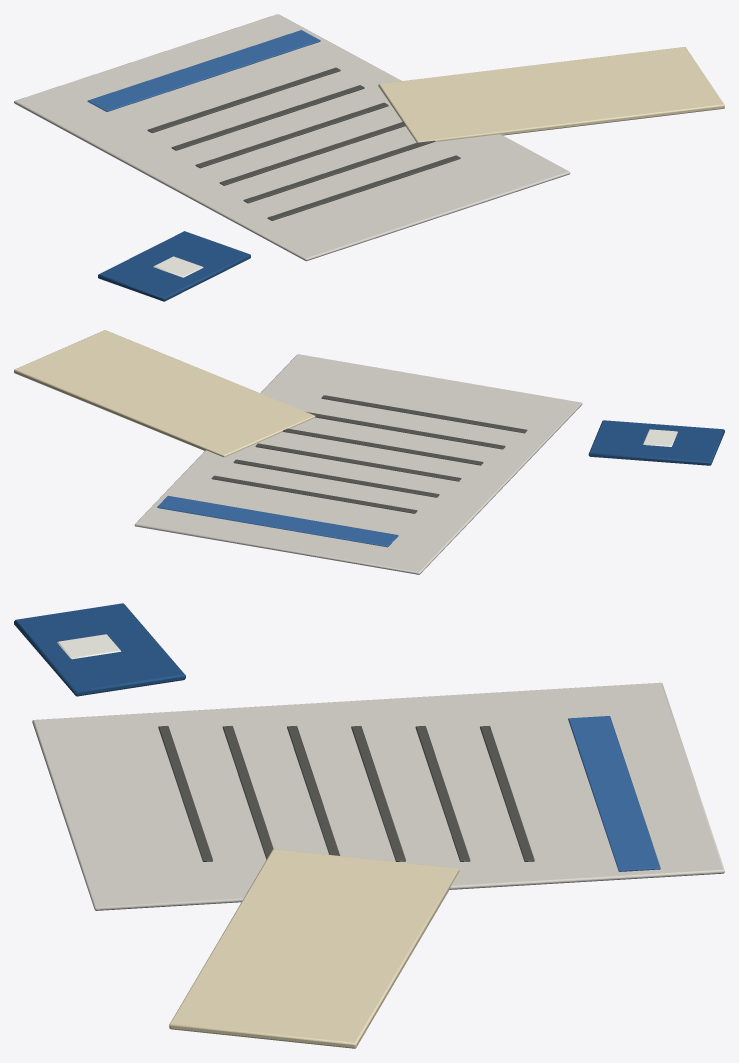
The model's file is GiayBaoNhapHoc.glb.
3 renders of one model, top to bottom at view 1: azimuth 30°, elevation 25°; view 2: azimuth 150°, elevation 25°; view 3: azimuth 270°, elevation 25°, orthographic. The views are drawn at different scales.
Parts seen in each view (by area): view 1: GiayBaoNhapHoc; view 2: GiayBaoNhapHoc; view 3: GiayBaoNhapHoc.
Boxes of the visible parts, left/top/right/bottom form: GiayBaoNhapHoc: left=14, top=14, right=724, bottom=301; GiayBaoNhapHoc: left=14, top=330, right=724, bottom=574; GiayBaoNhapHoc: left=14, top=603, right=724, bottom=1048.
Bounding box in the file's own units: 0.4868 × 0.004 × 0.3317.
